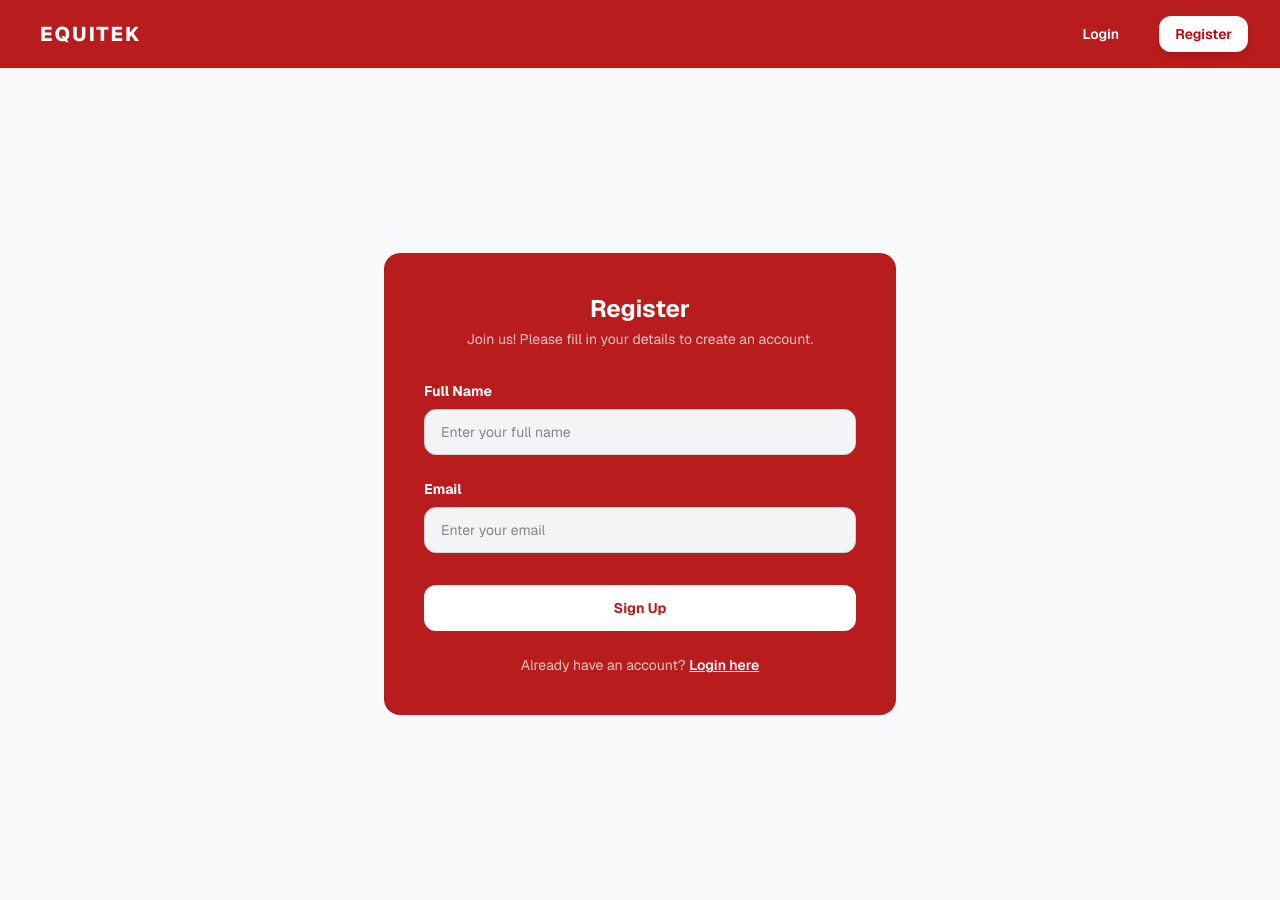
it: Registration Page › client-side validation › shows name error when name is empty on submit
The image size is (1280, 900).
Click the button "Sign Up". click: {"x": 640, "y": 608}
box: [424,585,856,631]
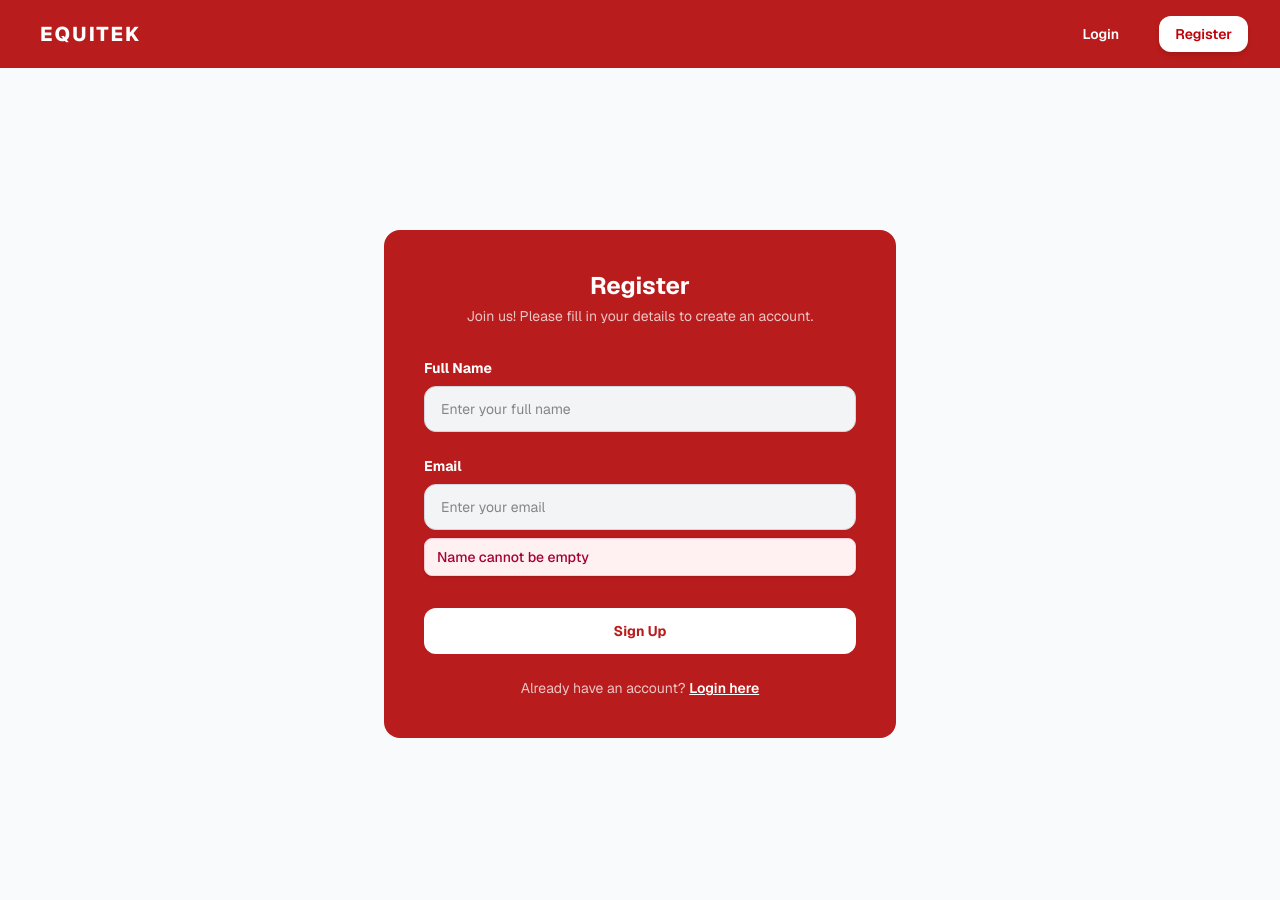
Expected: the text "Name cannot be empty" is shown, [424,538,856,576]
